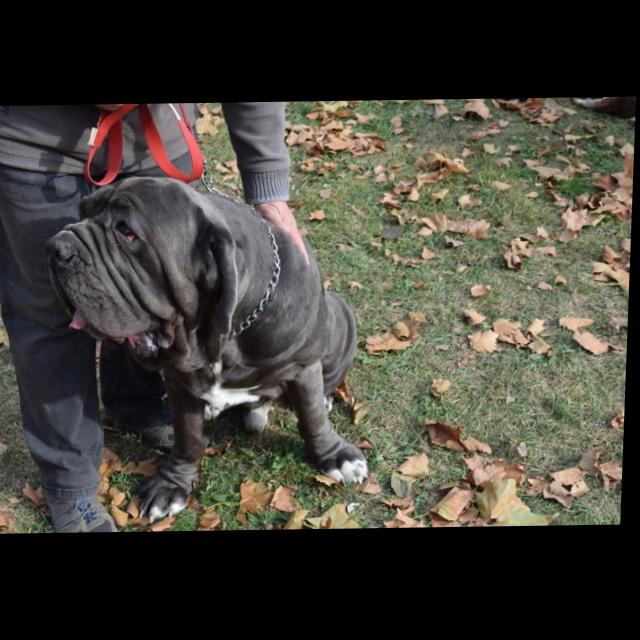mastino_napoletano: (39, 174, 382, 525)
